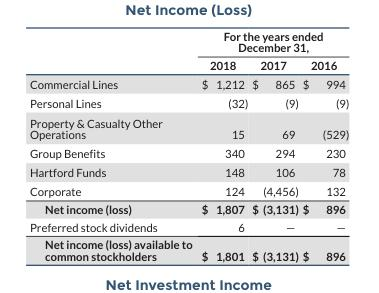table: (28, 28, 348, 262)
table column: (28, 28, 196, 262), (196, 28, 249, 262), (249, 28, 299, 262), (299, 28, 348, 262)
table column header: (28, 28, 348, 74)
table row: (28, 112, 348, 143), (28, 28, 348, 55), (28, 235, 348, 262), (28, 92, 348, 112), (28, 55, 348, 74), (28, 143, 348, 162), (28, 162, 348, 181), (28, 74, 348, 92), (28, 181, 348, 199), (28, 199, 348, 217), (28, 217, 348, 235)
table spanning cell: (196, 28, 348, 55)
